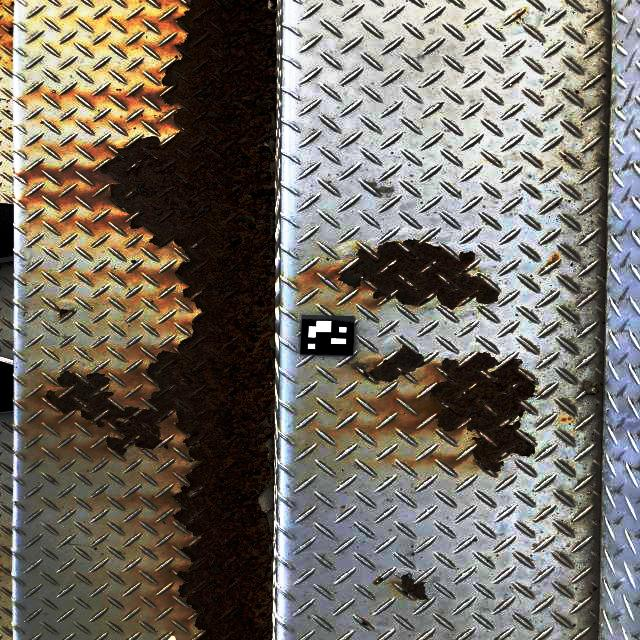Corrosion: (46, 0, 278, 640), (434, 355, 537, 474), (339, 240, 501, 310), (367, 345, 427, 384), (399, 574, 428, 602), (360, 620, 375, 632), (59, 308, 75, 318), (374, 578, 384, 586)
